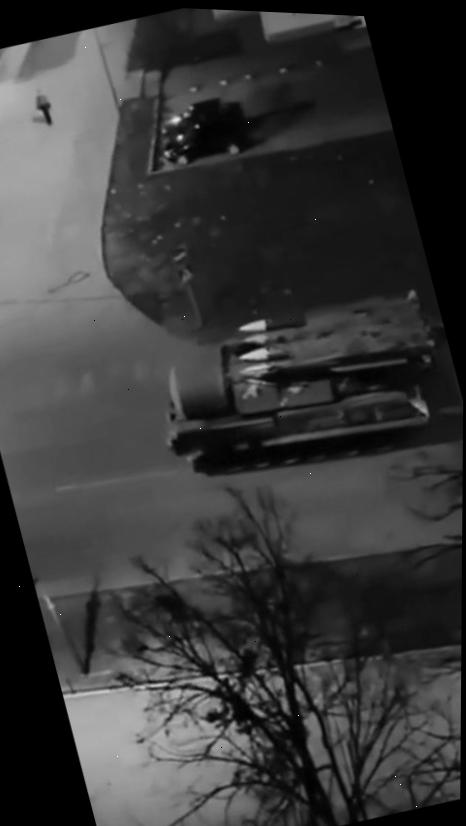person: (30, 84, 57, 130)
rszo: (134, 267, 463, 507)
